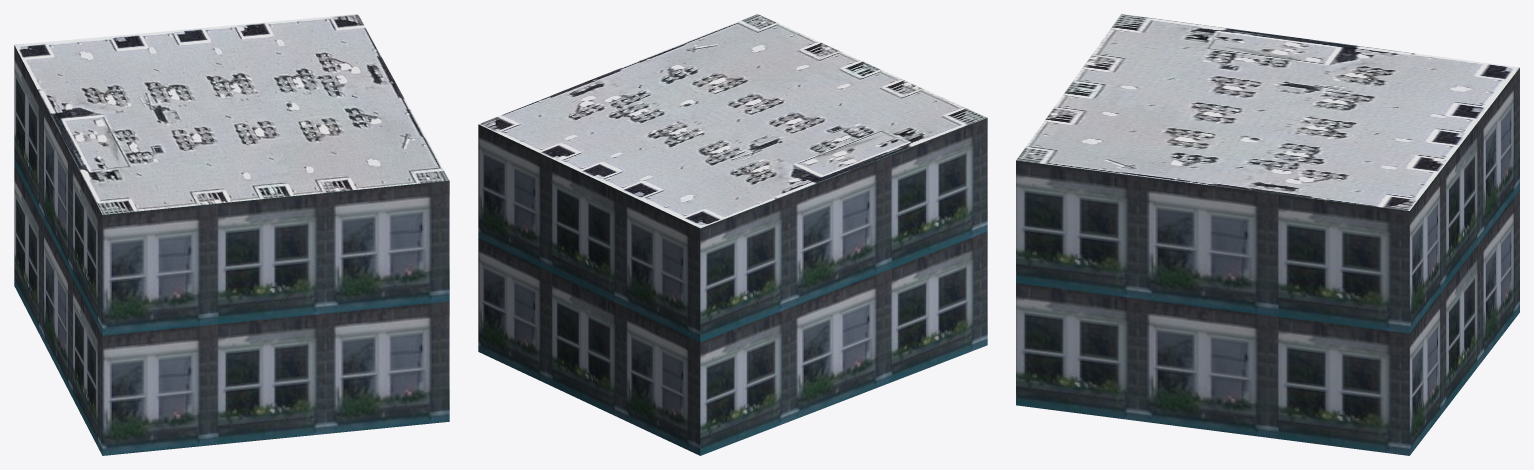
The model's file is ResTex__2592.fbx.
3 views of the same model, side by side, from view 1: azimuth 30°, elevation 25°; view 2: azimuth 150°, elevation 25°; view 3: azimuth 270°, elevation 25° (orthographic). The views are drawn at different scales.
Parts seen in each view (by area): view 1: CityEngineMaterial_11_m, CityEngineMaterial_m; view 2: CityEngineMaterial_11_m, CityEngineMaterial_m; view 3: CityEngineMaterial_11_m, CityEngineMaterial_m.
Part boxes in pixels (left/top/right/bottom): CityEngineMaterial_11_m: left=14, top=45, right=449, bottom=455; CityEngineMaterial_m: left=14, top=14, right=449, bottom=214; CityEngineMaterial_11_m: left=478, top=118, right=987, bottom=455; CityEngineMaterial_m: left=478, top=14, right=986, bottom=228; CityEngineMaterial_11_m: left=1016, top=68, right=1519, bottom=455; CityEngineMaterial_m: left=1016, top=14, right=1519, bottom=210.
Size of the model in its own units: 10.35 by 6 by 11.19.
Materials: 2 (2 with a texture image).
